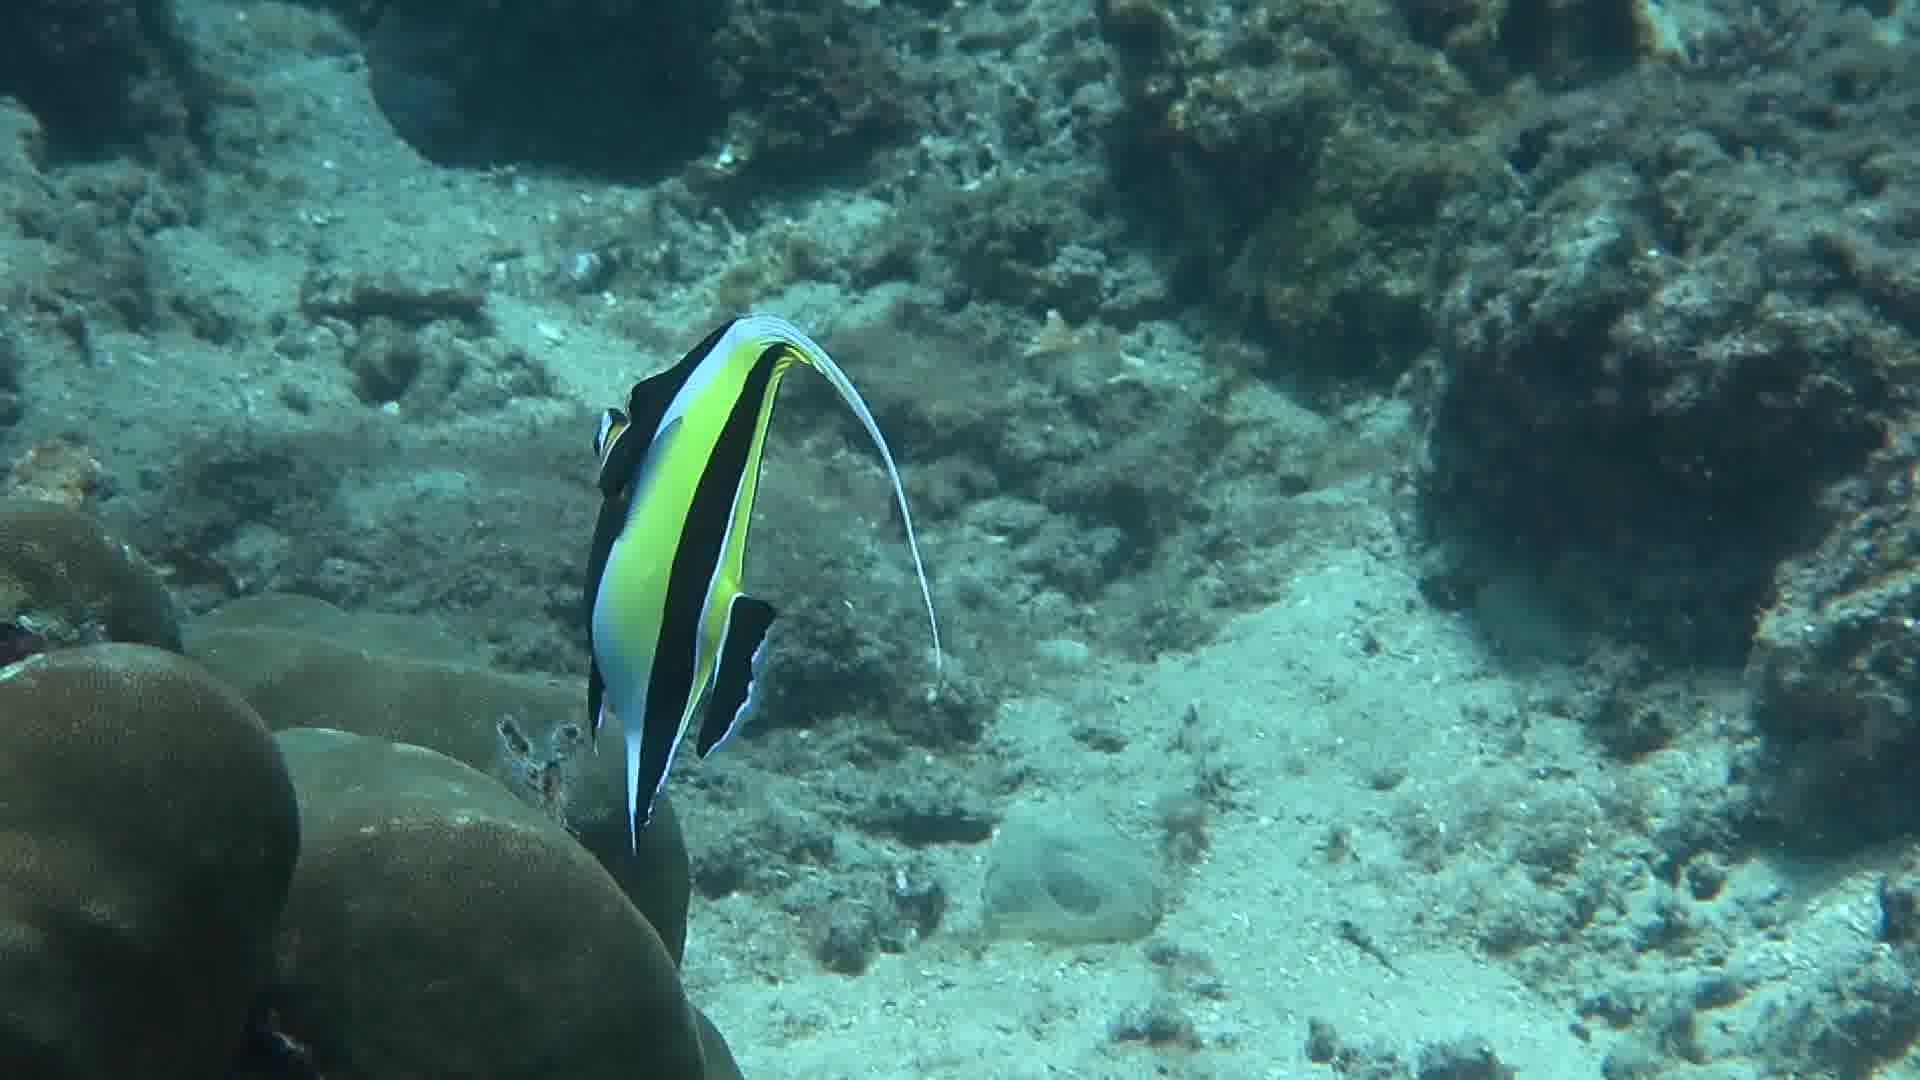Zanclus cornutus: (585, 297, 786, 837)
